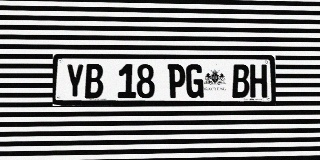1: (118, 64, 136, 98)
8: (137, 64, 155, 98)
B: (85, 64, 103, 98), (232, 64, 249, 98)
G: (186, 64, 203, 98)
H: (250, 64, 267, 98)
P: (168, 64, 185, 98)
Y: (65, 64, 84, 98)
